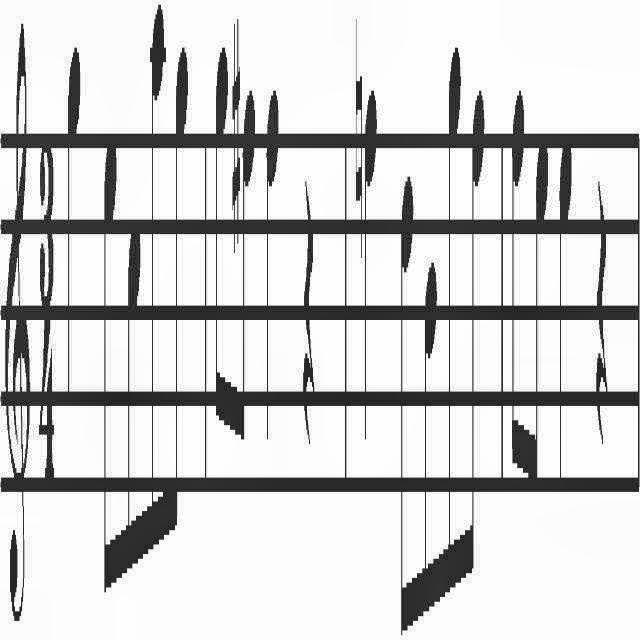Bass-clef: (4, 16, 32, 640)
Diez: (231, 17, 241, 259)
Eighth-note: (168, 38, 190, 590), (464, 85, 486, 608), (146, 3, 164, 607), (444, 38, 462, 638), (526, 134, 550, 512), (102, 120, 118, 610), (238, 85, 256, 475), (510, 78, 526, 506), (212, 44, 228, 463), (421, 264, 439, 628), (400, 174, 414, 638), (124, 208, 140, 608)
Quarter-note: (264, 76, 280, 456), (558, 126, 574, 492), (66, 42, 82, 402), (364, 87, 378, 455)
Quarter-rest: (595, 176, 609, 452), (302, 173, 314, 454)
